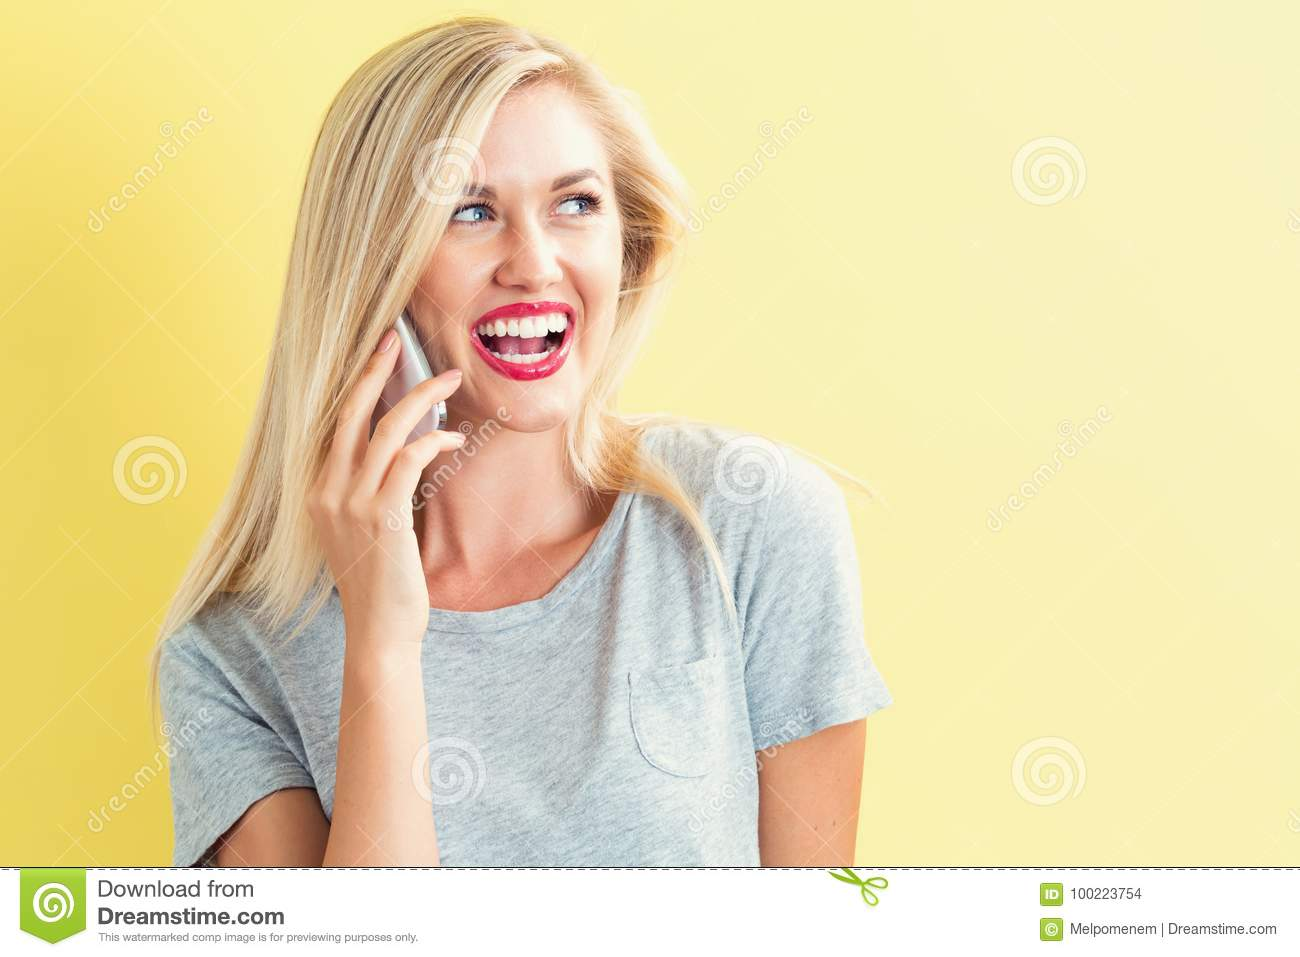phone: (350, 259, 453, 505)
talk: (307, 157, 613, 616)
